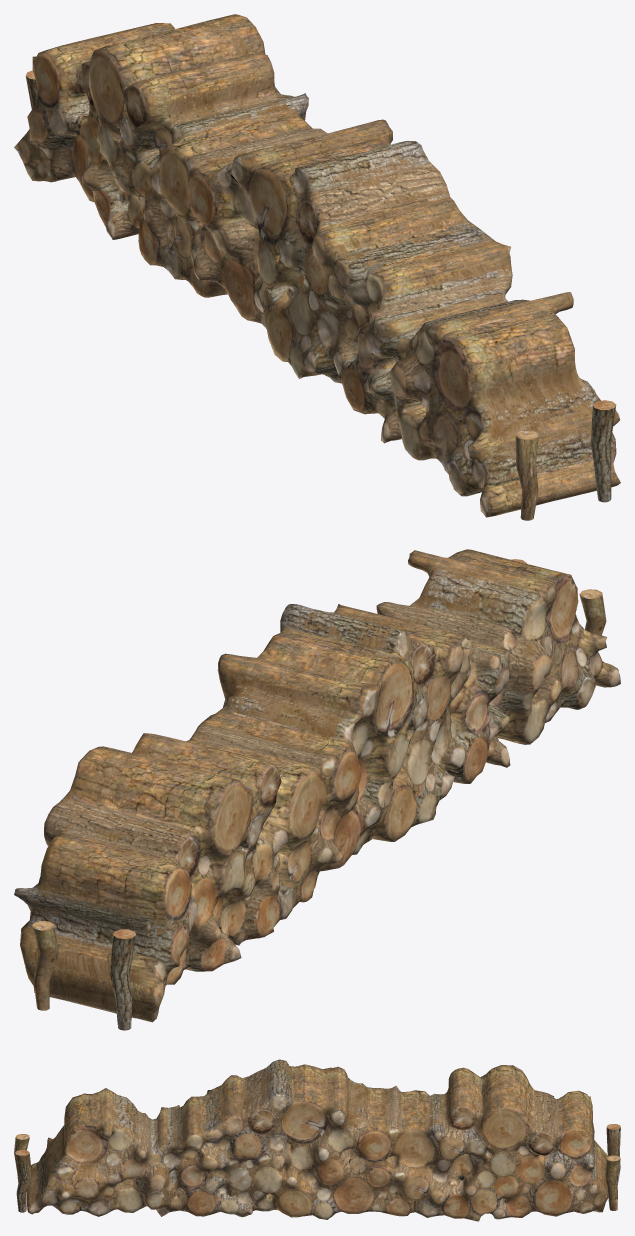
The model's file is Prop_WoodPile.fbx.
The picture shows the model from 3 angles, top to bottom: view 1: azimuth 30°, elevation 25°; view 2: azimuth 150°, elevation 25°; view 3: azimuth 270°, elevation 25°; orthographic projection. The views are drawn at different scales.
Visible parts, largest first — view 1: Prop_WoodPile; view 2: Prop_WoodPile; view 3: Prop_WoodPile.
Boxes of the visible parts, <box> form: Prop_WoodPile: <box>14,14,620,520</box>; Prop_WoodPile: <box>14,549,620,1030</box>; Prop_WoodPile: <box>14,1059,620,1221</box>.
Bounding box in the file's own units: 34.95 × 40.46 × 178.
